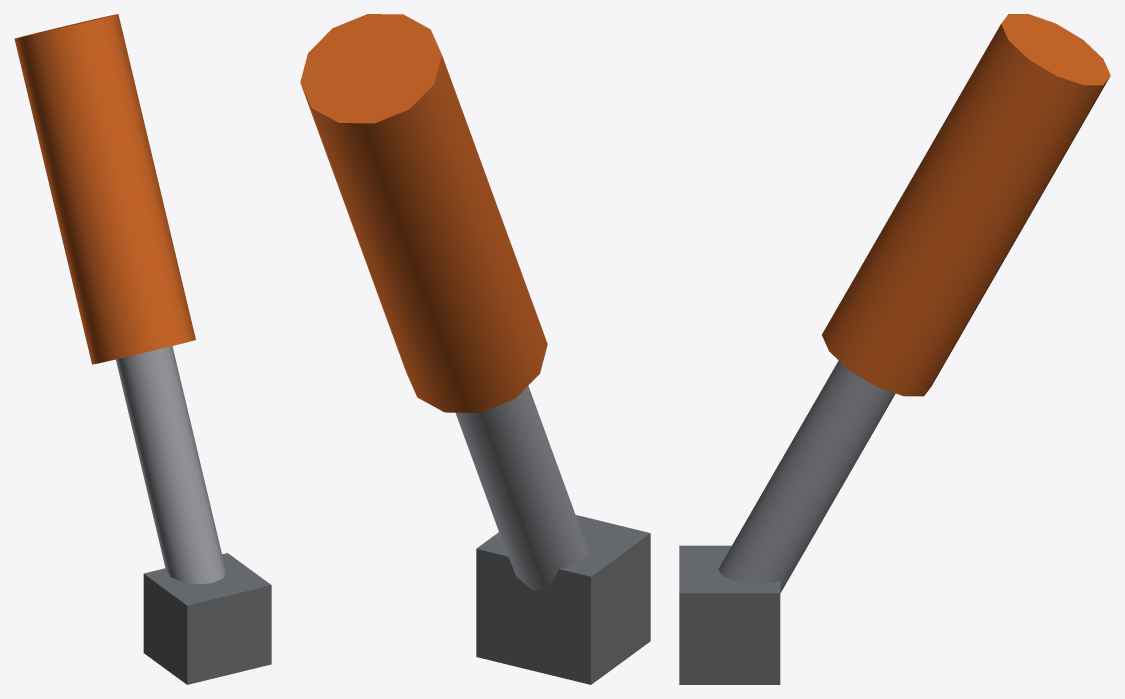
File: po4_actuator.obj
3 views of the same model, side by side, from view 1: azimuth 30°, elevation 25°; view 2: azimuth 150°, elevation 25°; view 3: azimuth 270°, elevation 25° (orthographic). The views are drawn at different scales.
Visible parts, largest first — view 1: po4_actuator; view 2: po4_actuator; view 3: po4_actuator.
Part boxes in pixels (box(x1,y1,x2,y2)): po4_actuator: box(14, 14, 271, 684); po4_actuator: box(300, 14, 650, 684); po4_actuator: box(679, 14, 1110, 684).
Bounding box in the file's own units: 0.22 × 1.25 × 0.7675.
